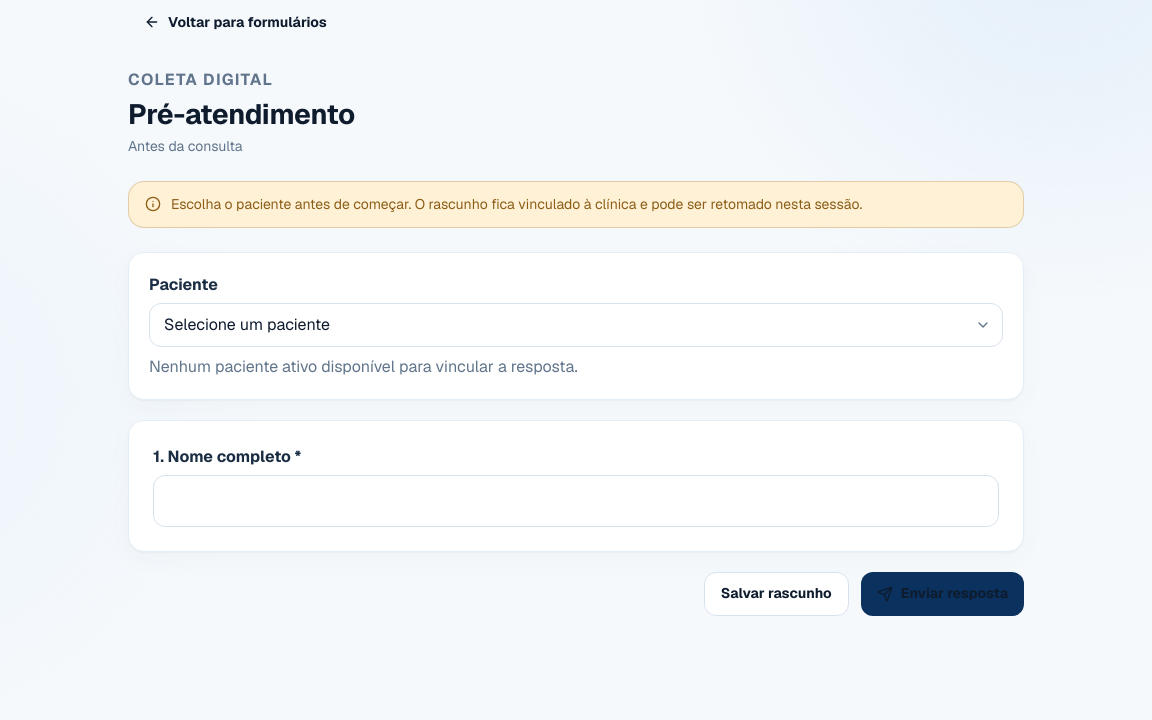
FormResponseScreen › não envia sem selecionar paciente
Click the button "Enviar resposta" at (942,594), box [861,572,1024,616]
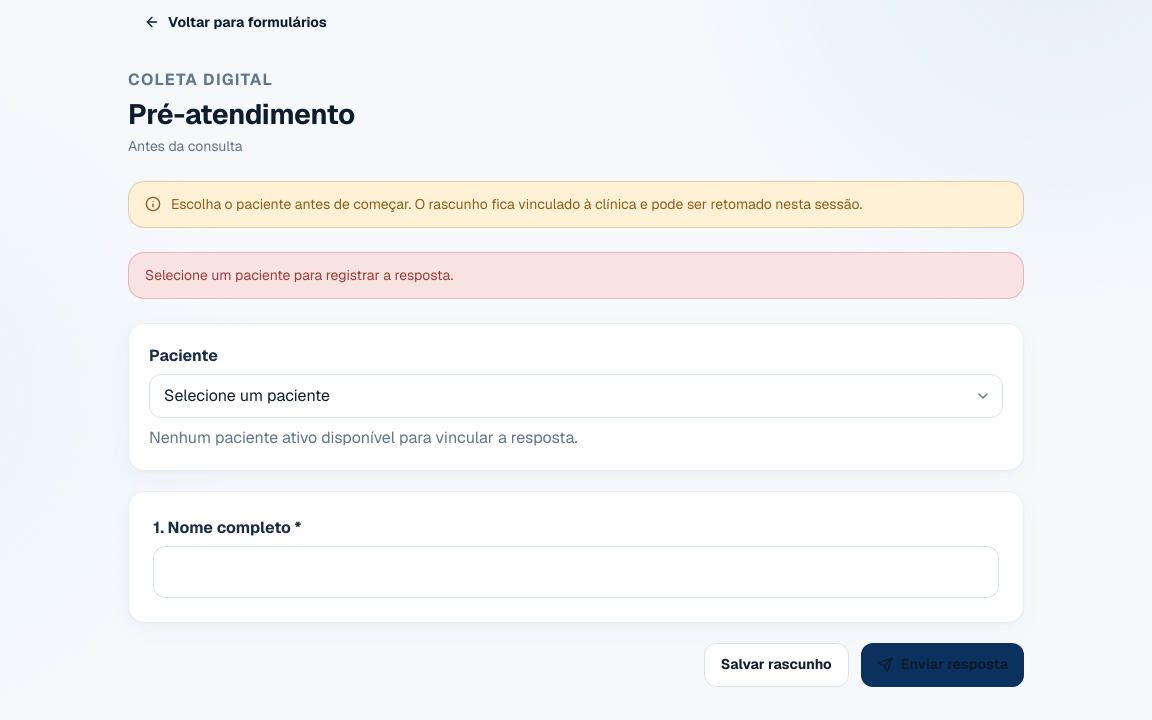
Check: the message "Selecione um paciente para registrar a resposta." is shown, box [128,252,1024,299]
